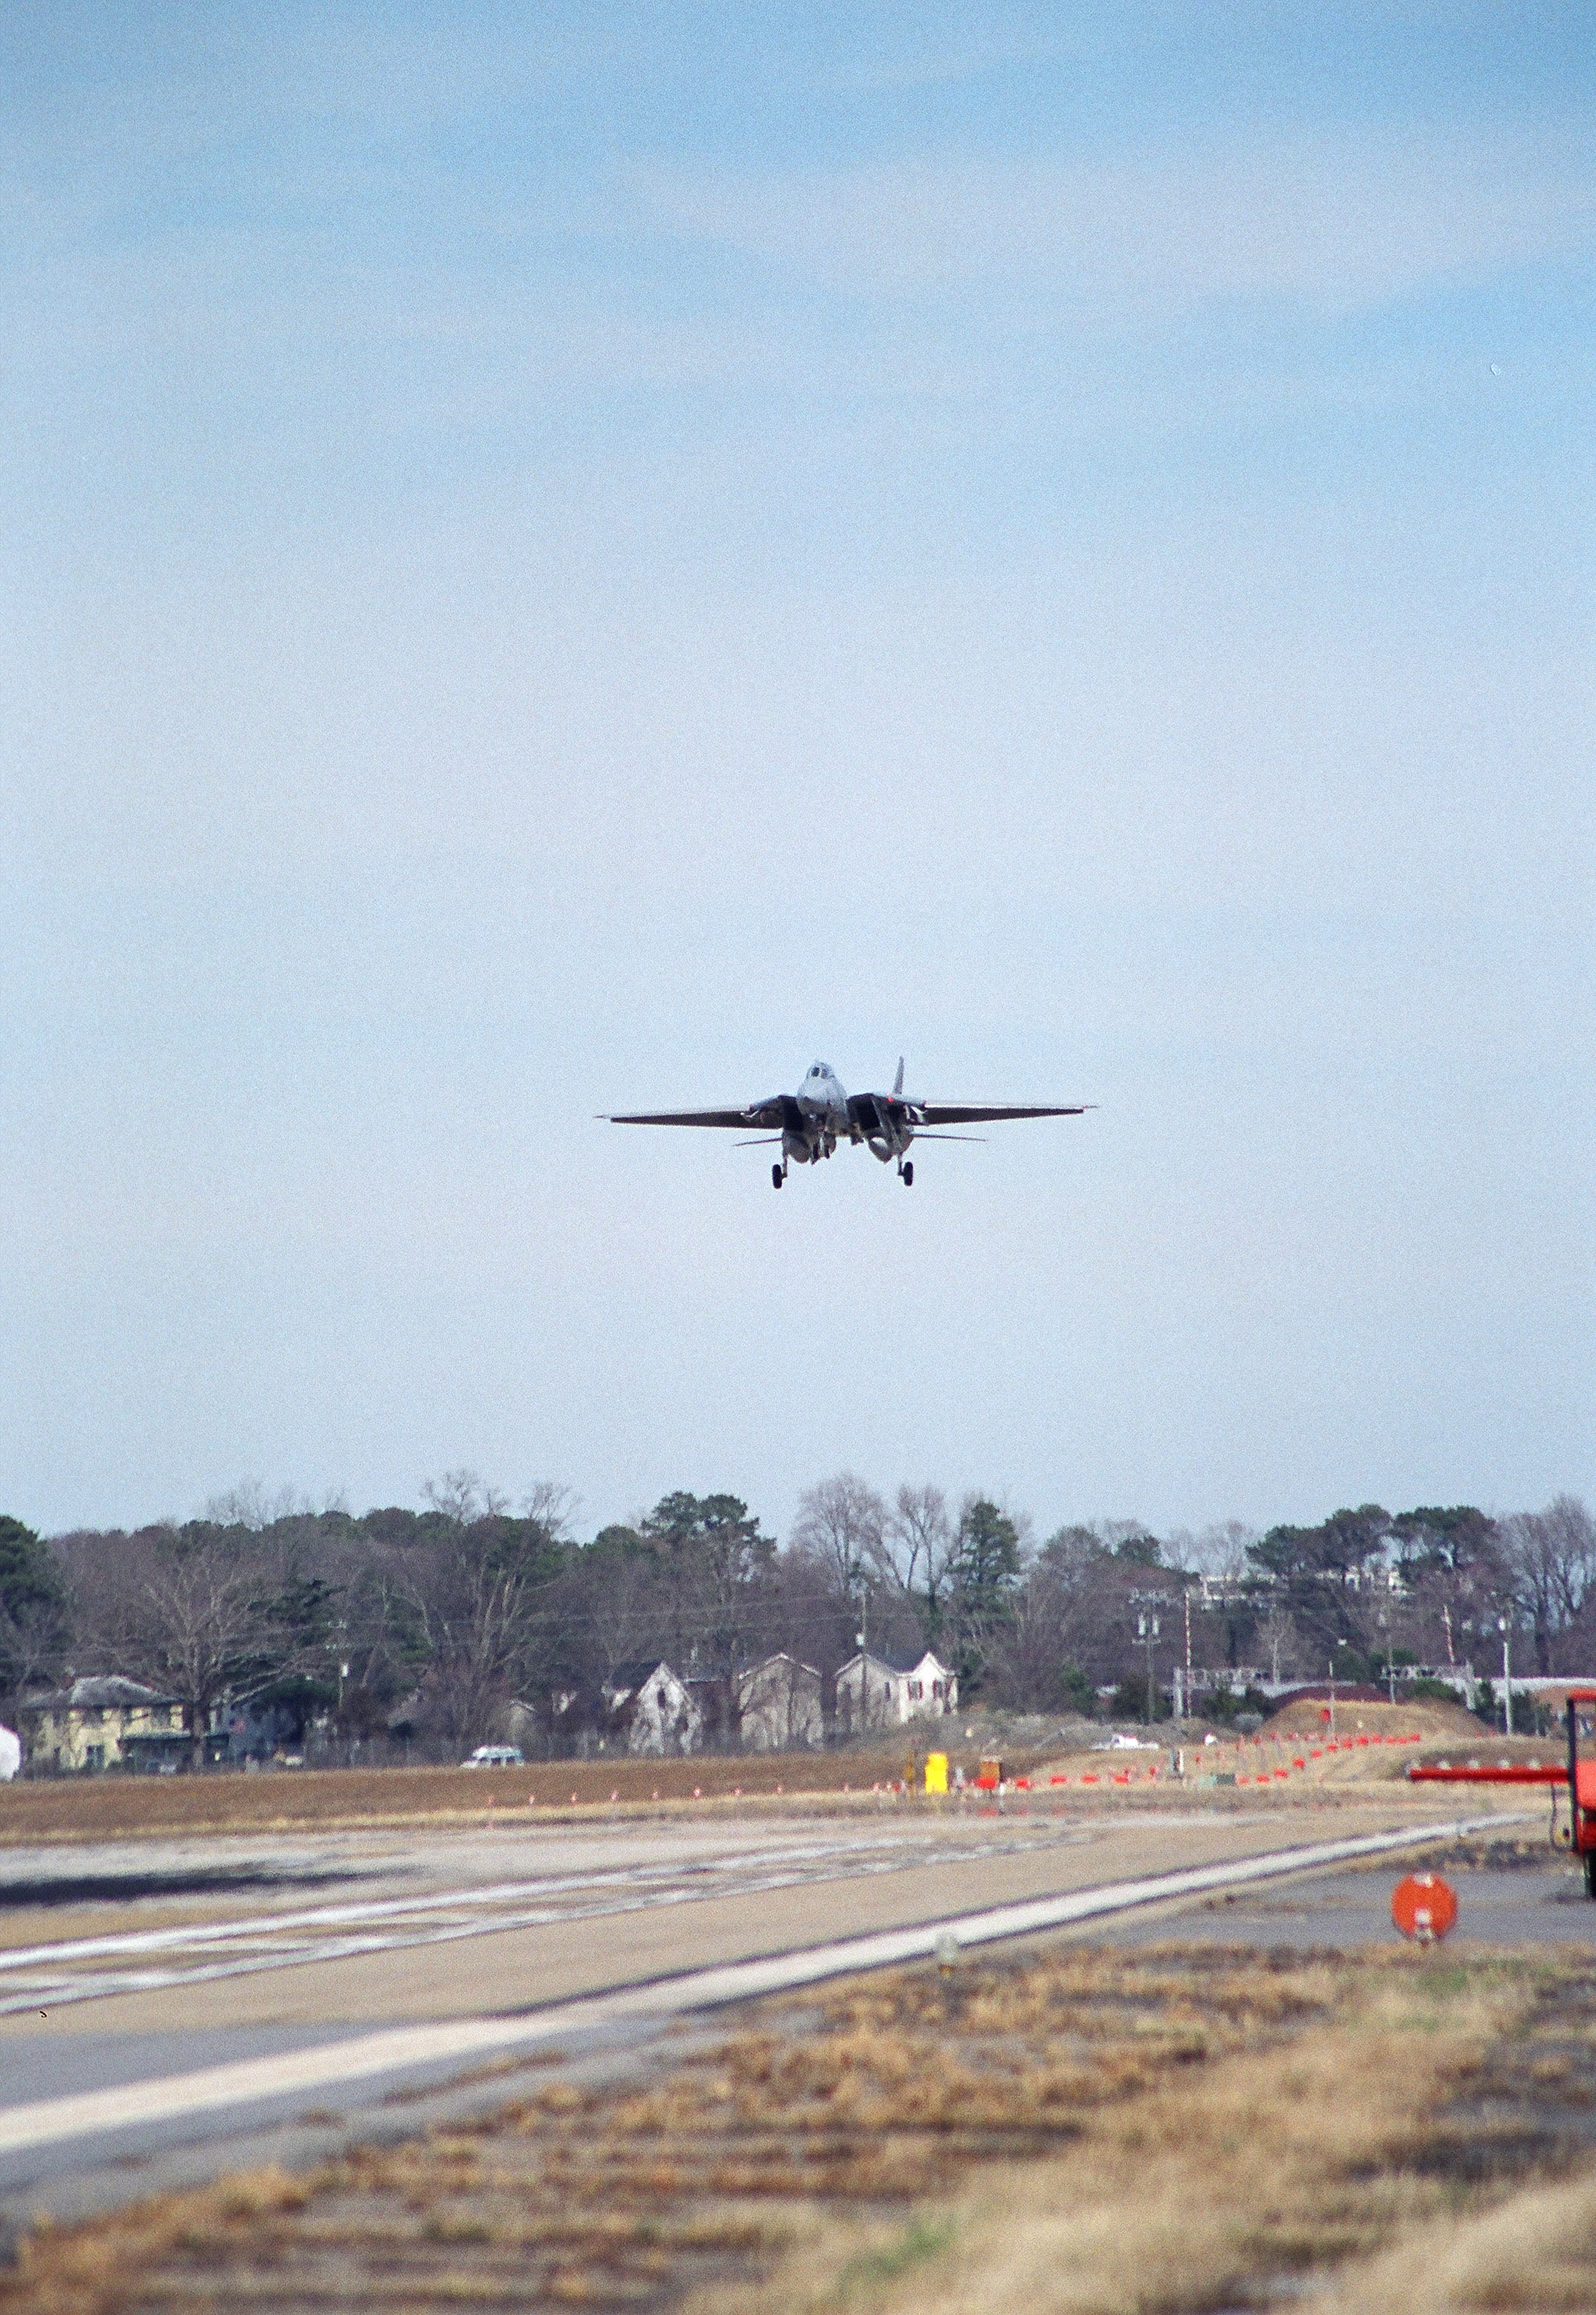F14: (591, 1054, 1103, 1189)
